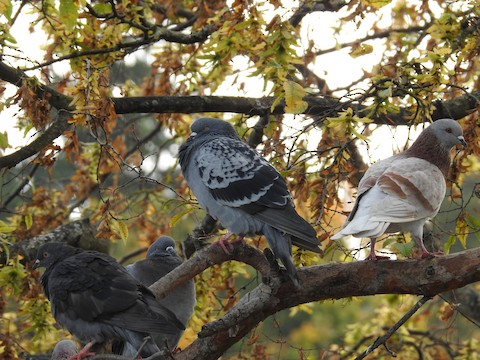pigeon: (173, 114, 327, 272), (321, 114, 471, 267), (31, 243, 190, 360), (110, 233, 213, 349)
